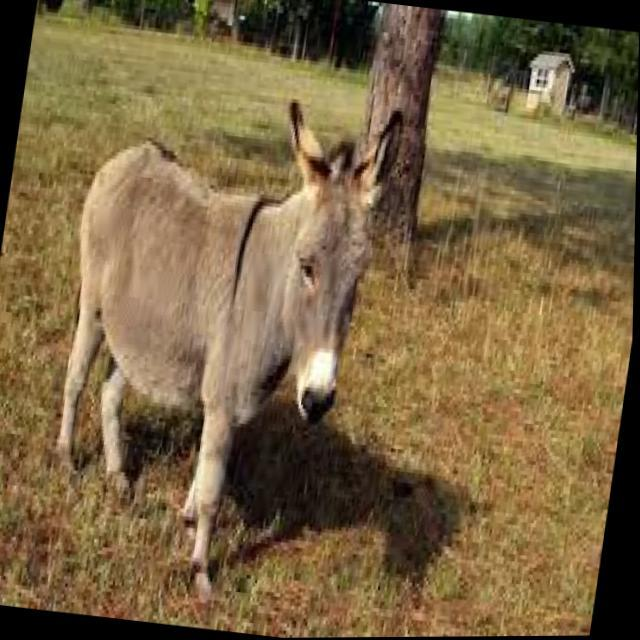Donkey: (23, 80, 408, 620)
